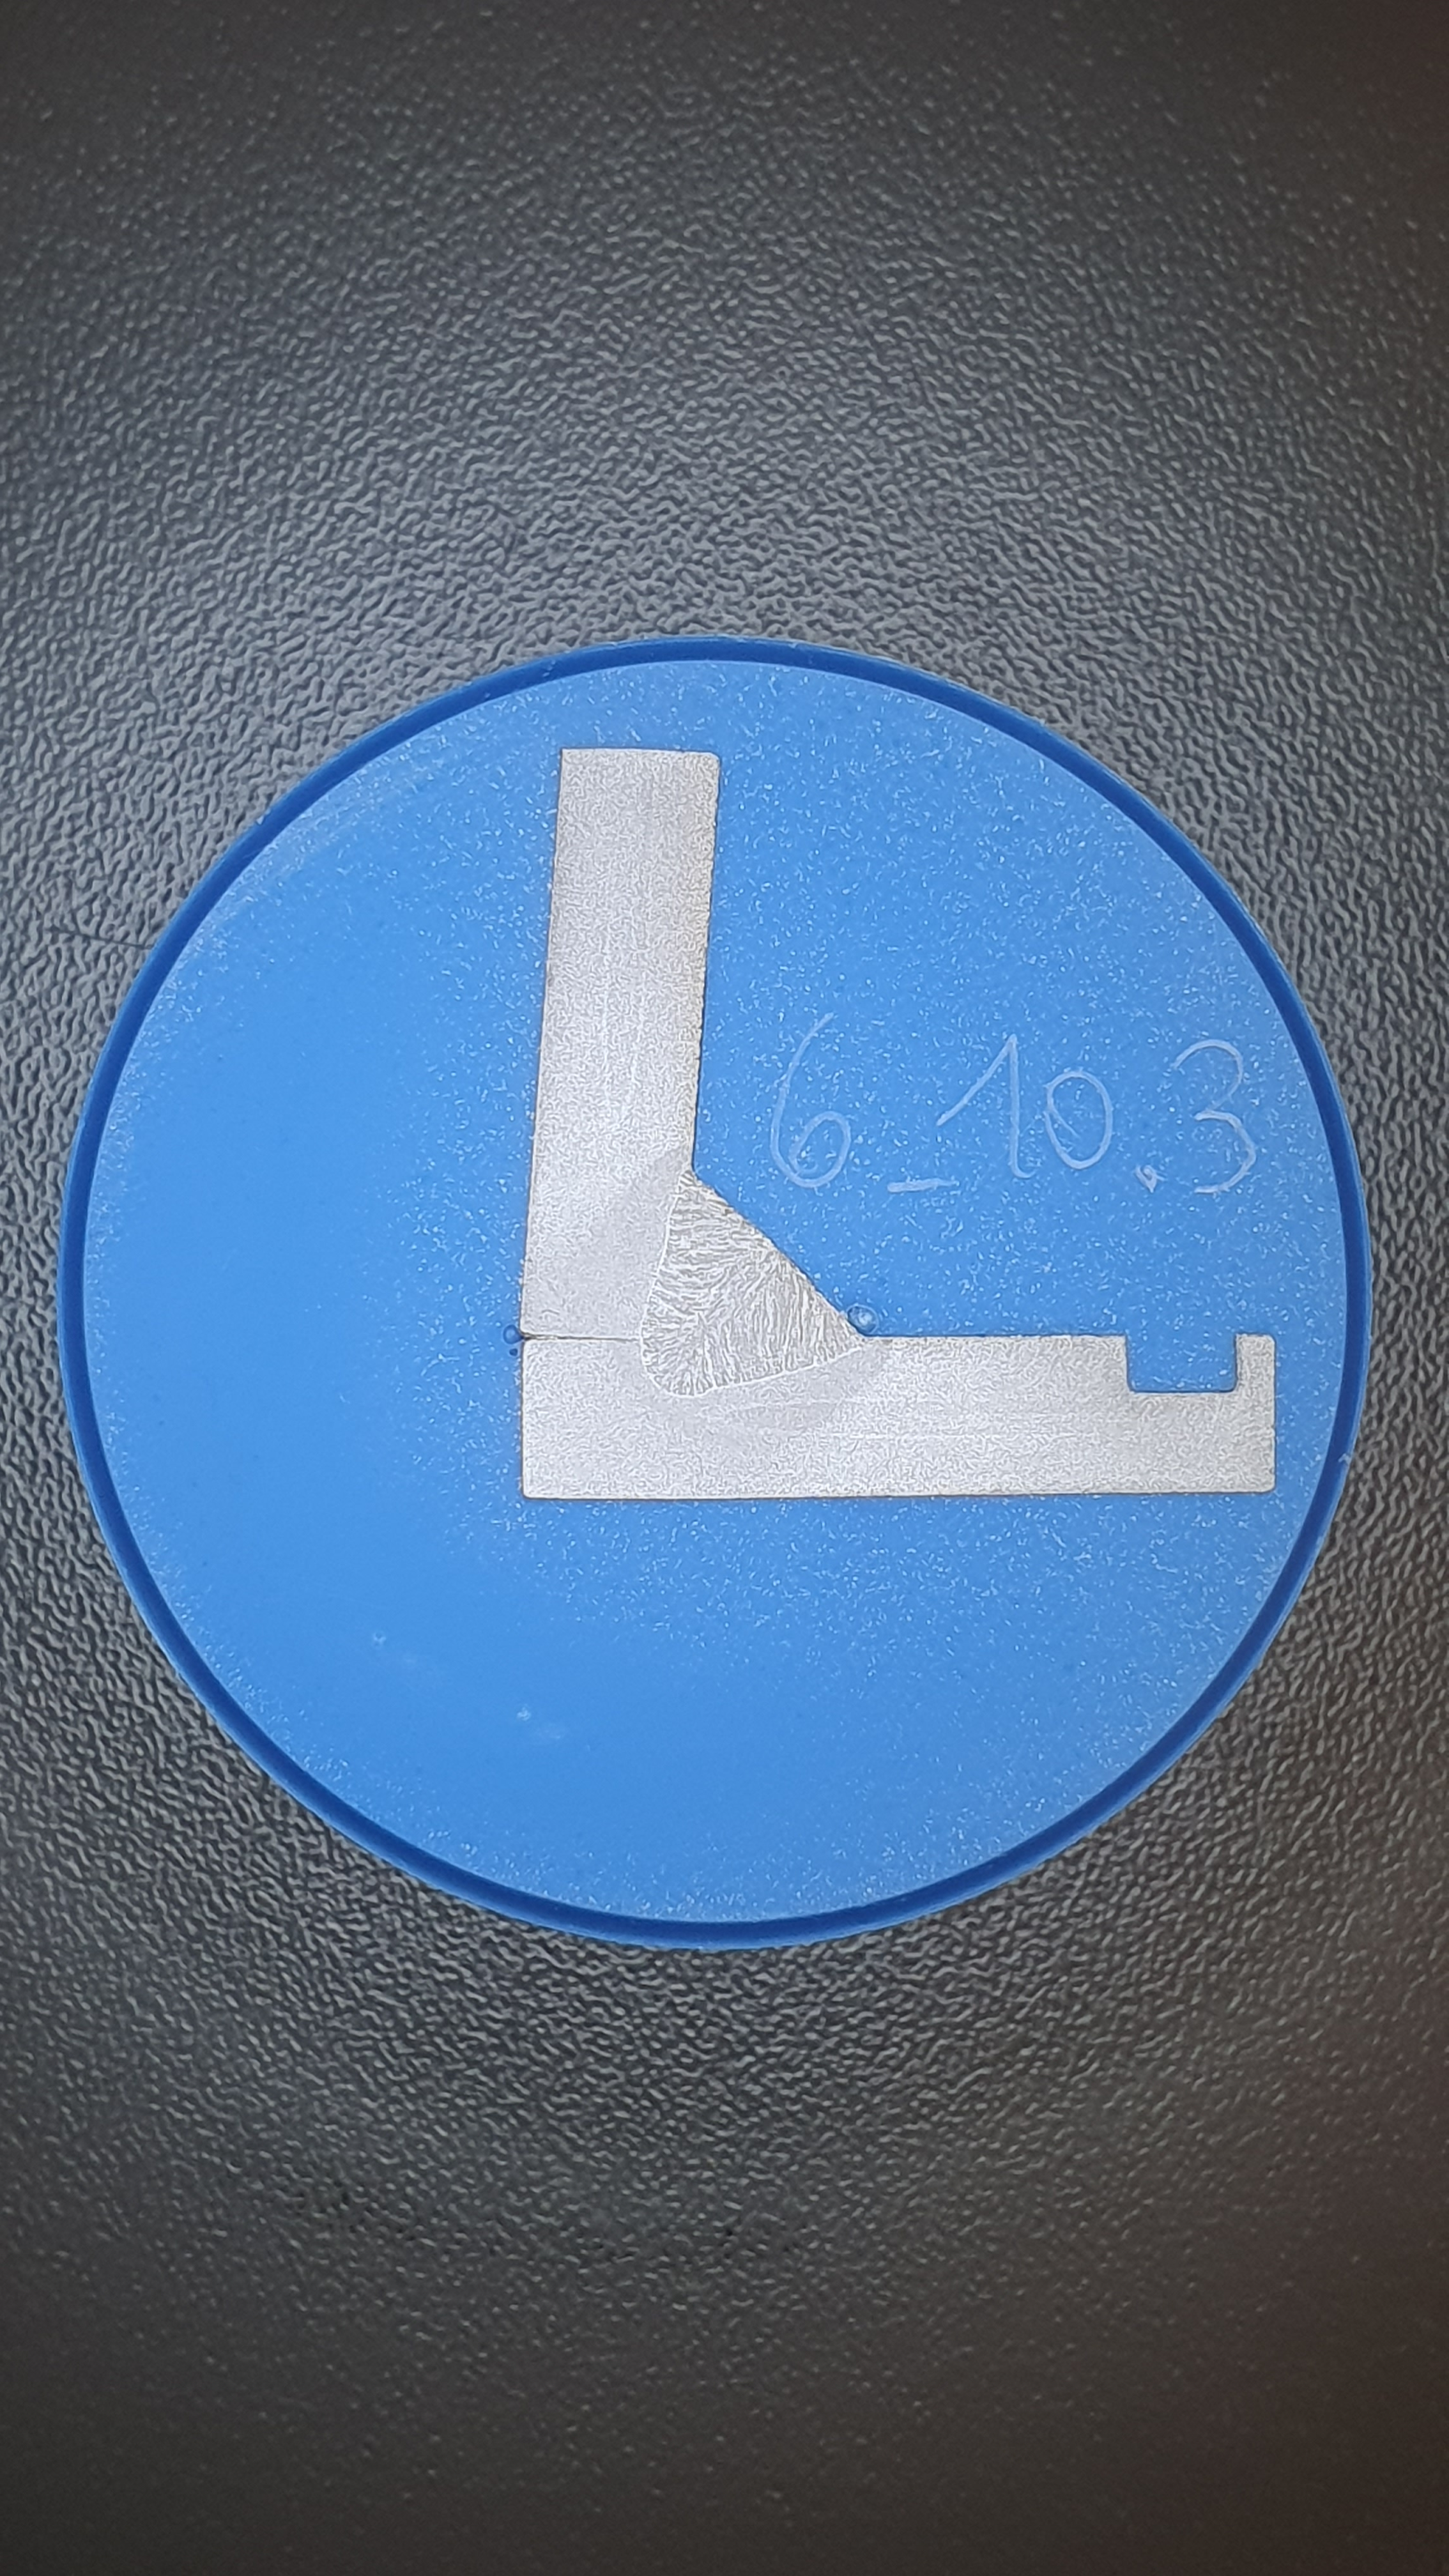Fusion: (640, 1169, 867, 1394)
Hintergrund: (81, 656, 1346, 1920)
Metall: (520, 748, 1276, 1497)
Nebenbereich: (563, 1141, 895, 1463)
